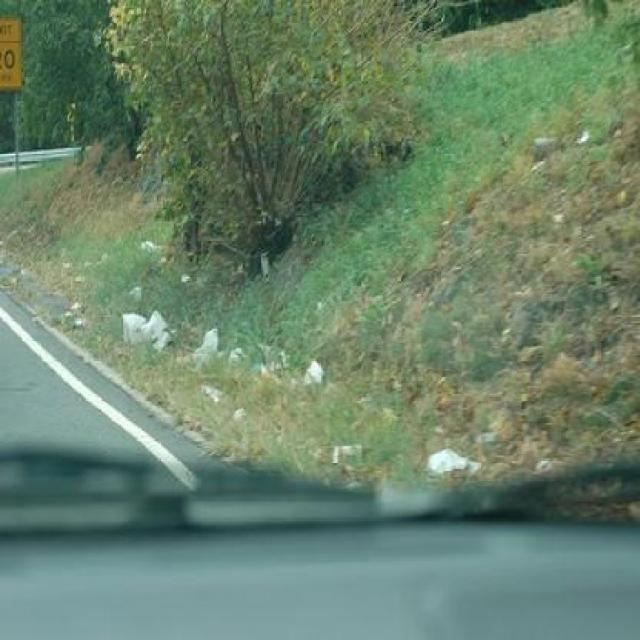garbage: (192, 326, 243, 399), (117, 309, 174, 348), (425, 445, 480, 473), (291, 350, 332, 386), (323, 440, 364, 464)
